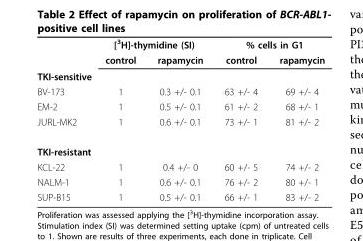table: (36, 37, 324, 202)
table column: (146, 37, 213, 202), (267, 37, 324, 202), (90, 37, 146, 202), (36, 37, 90, 202), (213, 37, 267, 202)
table column header: (36, 37, 324, 67)
table projected row header: (36, 136, 324, 159), (36, 67, 324, 83)
table row: (36, 113, 324, 136), (36, 136, 324, 159), (36, 51, 324, 67), (36, 67, 324, 83), (36, 83, 324, 98), (36, 98, 324, 113), (36, 159, 324, 174), (36, 174, 324, 189), (36, 37, 324, 51), (36, 189, 324, 202)
table spanning cell: (90, 37, 213, 51), (213, 37, 324, 51)
